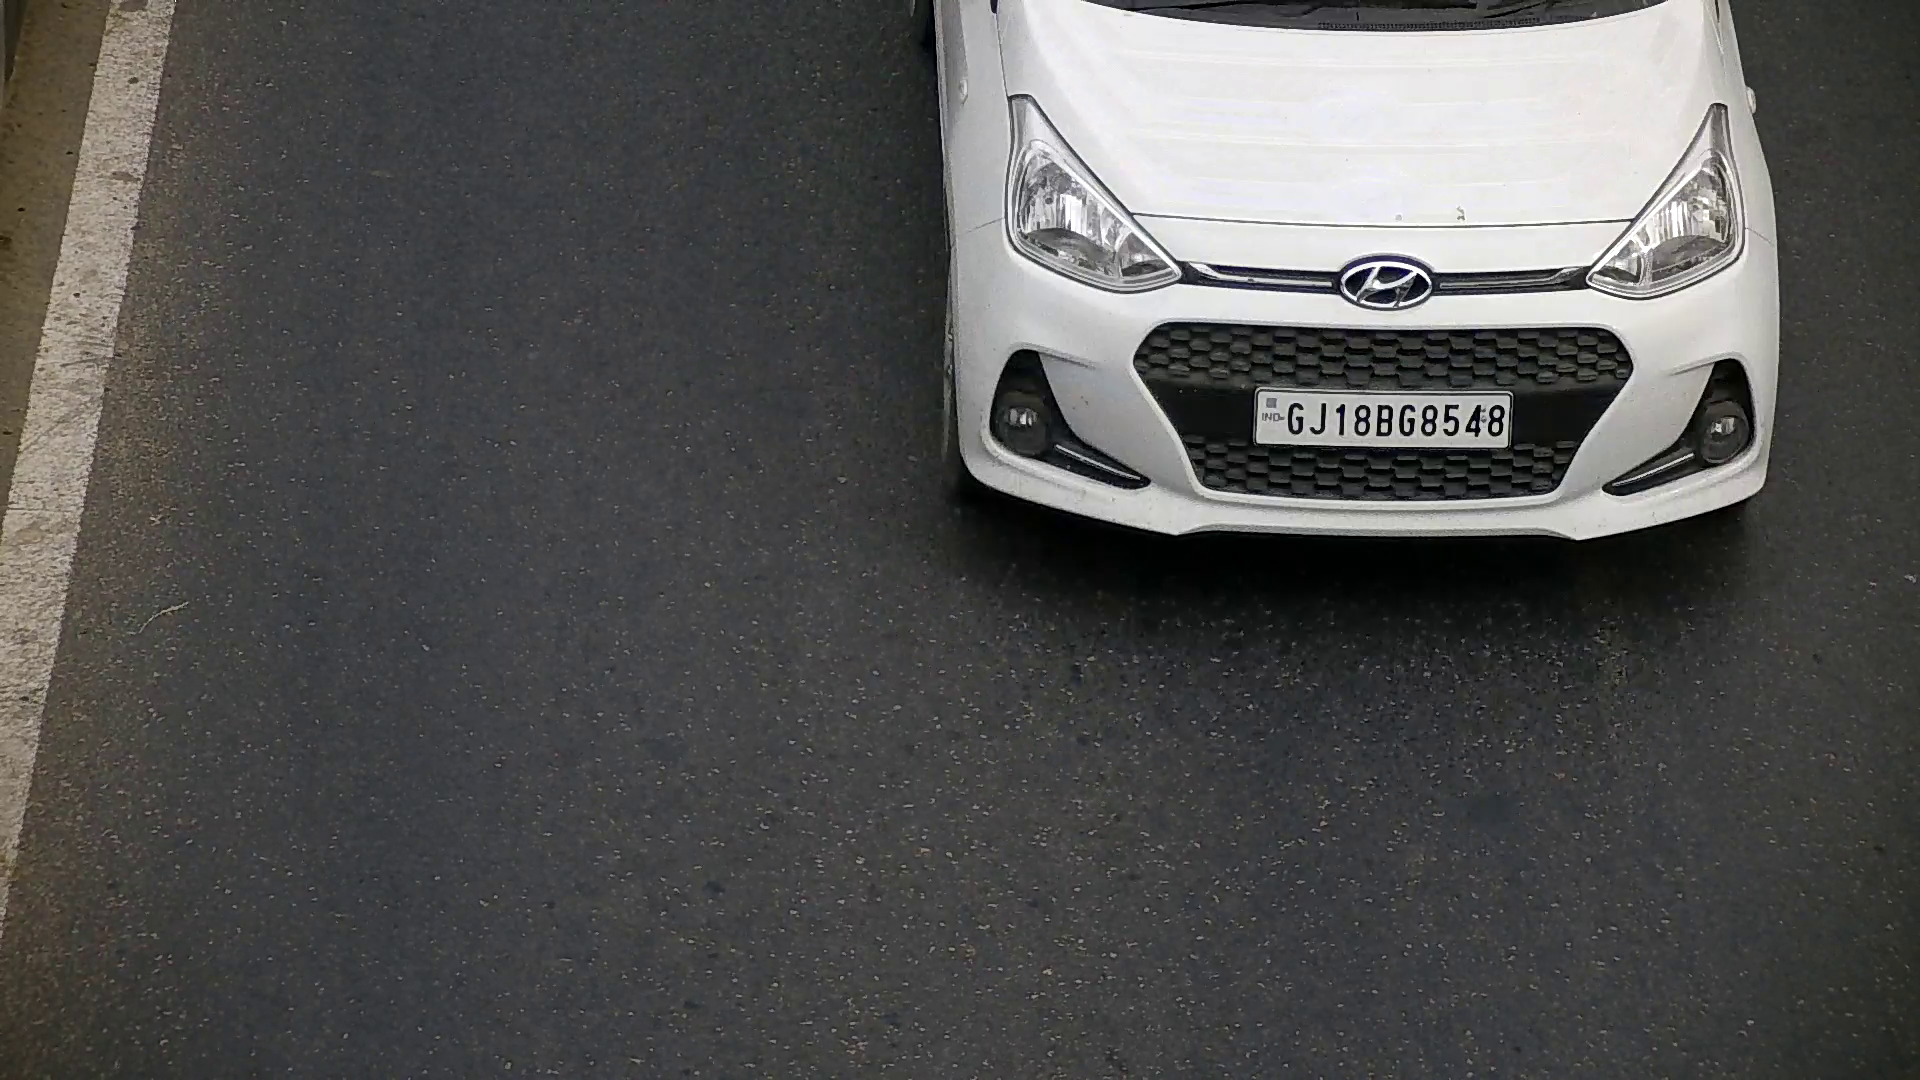numberplate: (1251, 386, 1516, 456)
